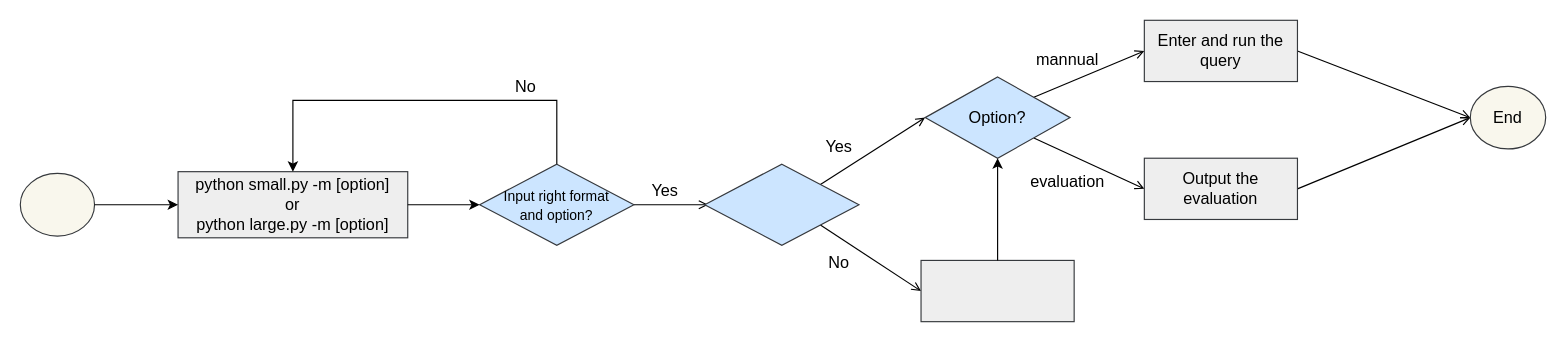
Some shapes in this 1566 by 342 pixel diagram are drawn without their labels. Here are the shapes that lost their labels. From the top down, the centre of each, then its label:
the point at 57,204: Start
the point at 781,204: Index file exists?
the point at 997,290: Preprocessing Create index file
